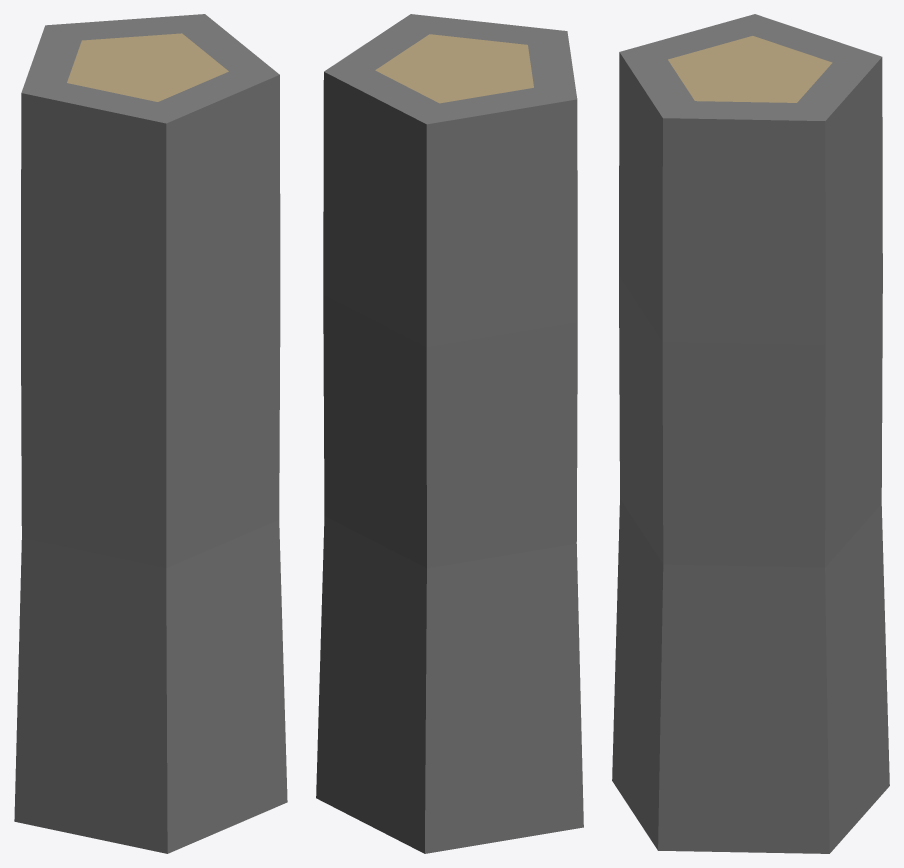
Rendered from Pillar_Penta_2.fbx.
3 renders of one model, left to right at view 1: azimuth 30°, elevation 25°; view 2: azimuth 150°, elevation 25°; view 3: azimuth 270°, elevation 25°, orthographic.
Visible parts, largest first — view 1: Cylinder004; view 2: Cylinder004; view 3: Cylinder004.
Part boxes in pixels (left/top/right/bottom): Cylinder004: left=14, top=14, right=287, bottom=853; Cylinder004: left=316, top=14, right=583, bottom=853; Cylinder004: left=612, top=14, right=889, bottom=853.
Bounding box in the file's own units: 16.63 × 50 × 17.24.
